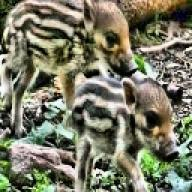boar: (0, 0, 138, 138), (67, 73, 180, 192)
